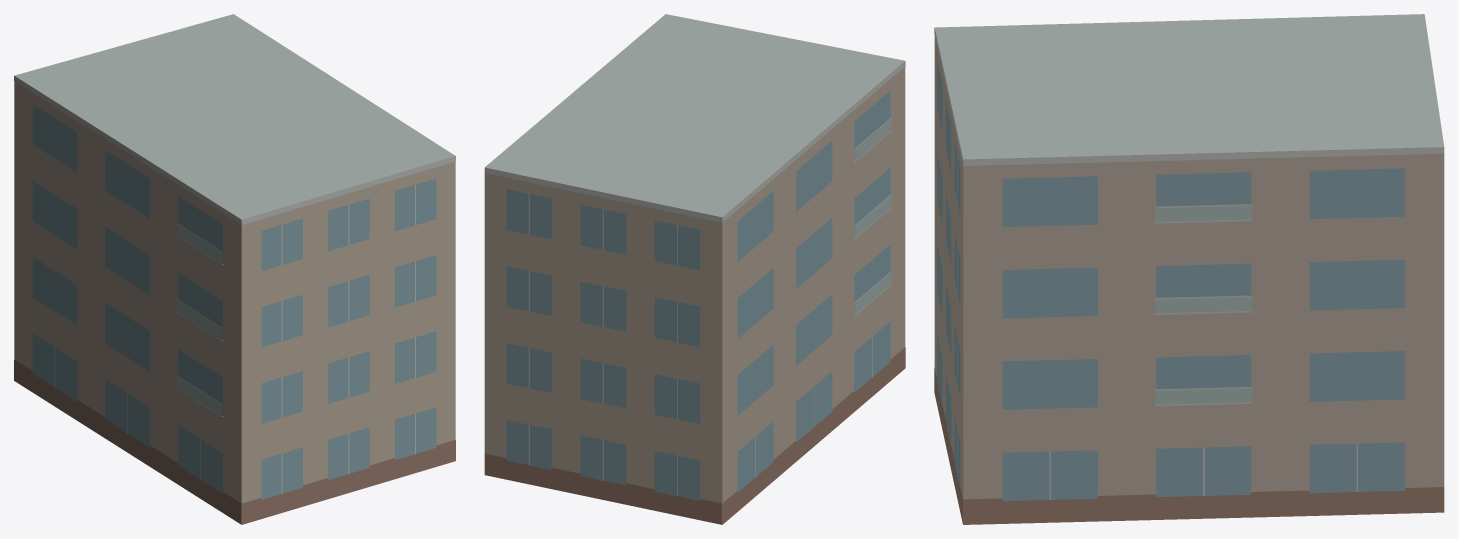
The model's file is survey-upis-33045273.glb.
The picture shows the model from 3 angles, left to right: view 1: azimuth 30°, elevation 25°; view 2: azimuth 150°, elevation 25°; view 3: azimuth 270°, elevation 25°; orthographic projection. The views are drawn at different scales.
Visible parts, largest first — view 1: survey-upis-33045273.tmp; view 2: survey-upis-33045273.tmp; view 3: survey-upis-33045273.tmp.
Boxes of the visible parts, bbox=[...] form: survey-upis-33045273.tmp: bbox=[14, 14, 455, 524]; survey-upis-33045273.tmp: bbox=[484, 14, 905, 524]; survey-upis-33045273.tmp: bbox=[934, 14, 1444, 524].
Bounding box in the file's own units: 11.68 × 13.67 × 17.3.
